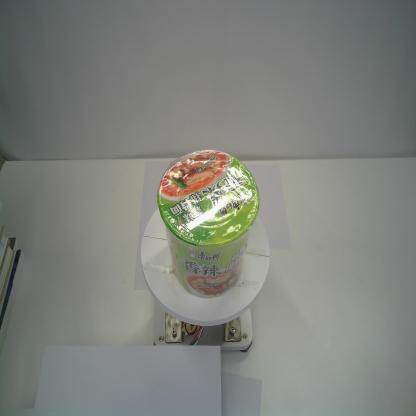Instant Noodles: (156, 148, 260, 298)
